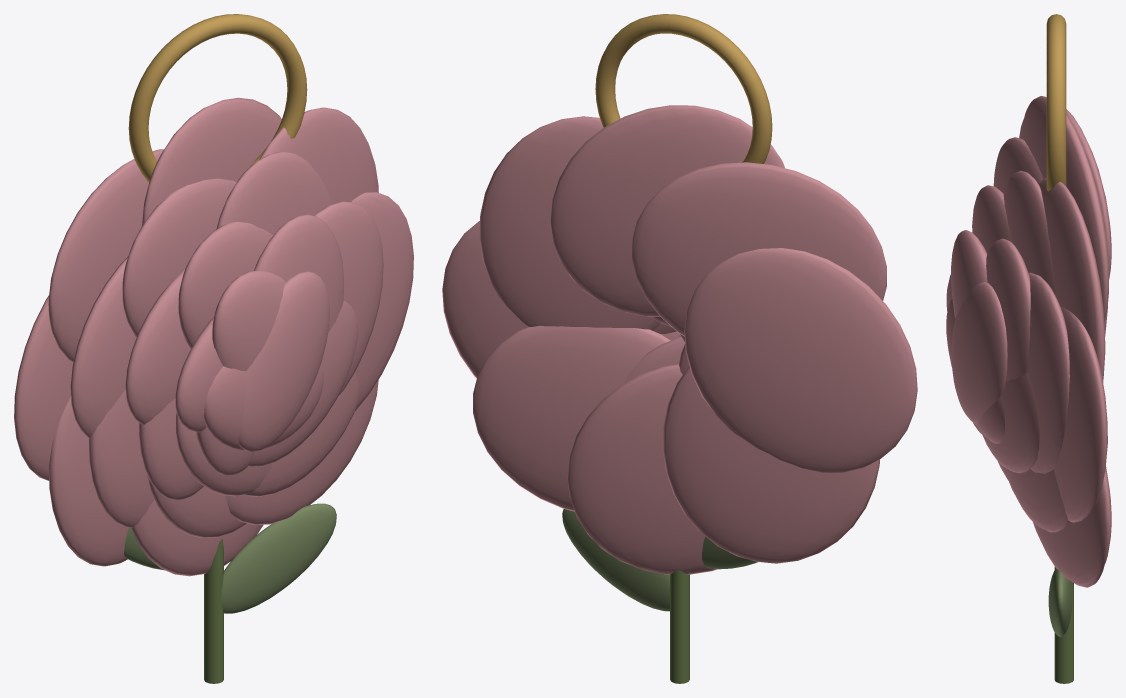
Rendered from rosebud-v1.glb.
The picture shows the model from 3 angles, left to right: view 1: azimuth 30°, elevation 25°; view 2: azimuth 150°, elevation 25°; view 3: azimuth 270°, elevation 25°; orthographic projection.
Bounding box in the file's own units: 1.27 × 1.84 × 0.4211.
